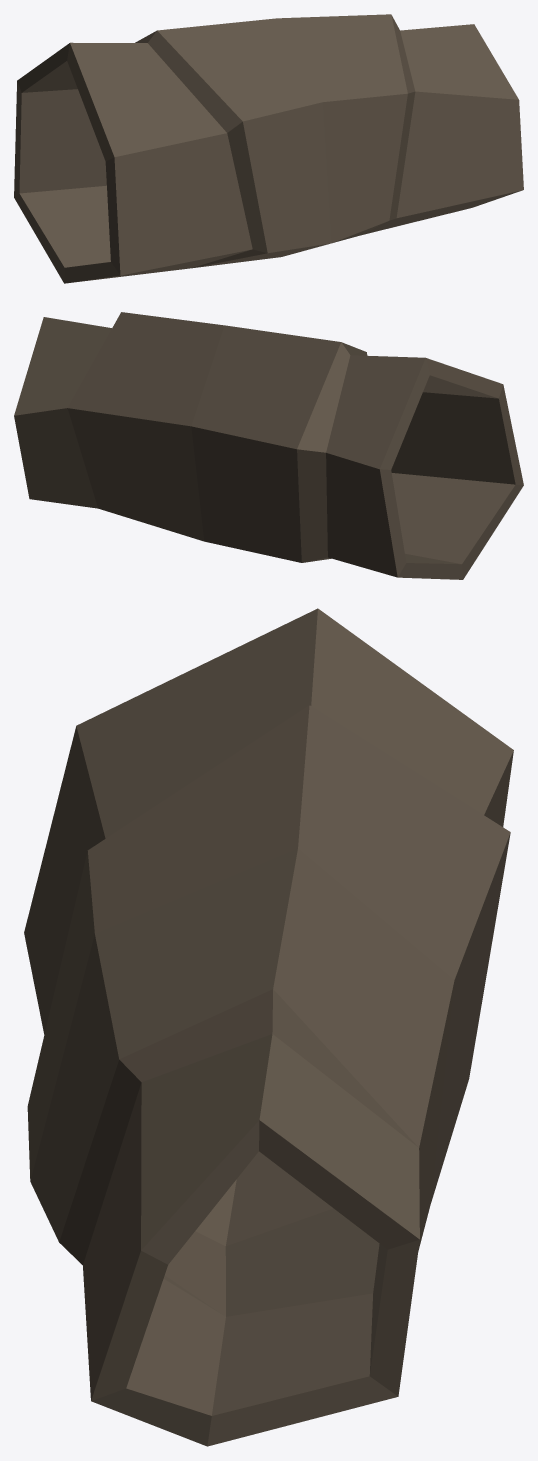
The model's file is Chr_ArmUpperLeft_Female_11_Drop.fbx.
The picture shows the model from 3 angles, top to bottom: view 1: azimuth 30°, elevation 25°; view 2: azimuth 150°, elevation 25°; view 3: azimuth 270°, elevation 25°; orthographic projection. The views are drawn at different scales.
Visible parts, largest first — view 1: Chr_ArmUpperLeft_Female_11_Static; view 2: Chr_ArmUpperLeft_Female_11_Static; view 3: Chr_ArmUpperLeft_Female_11_Static.
Boxes of the visible parts, left/top/right/bottom form: Chr_ArmUpperLeft_Female_11_Static: left=14, top=14, right=523, bottom=283; Chr_ArmUpperLeft_Female_11_Static: left=14, top=312, right=523, bottom=579; Chr_ArmUpperLeft_Female_11_Static: left=24, top=608, right=513, bottom=1446.
Bounding box in the file's own units: 24.45 × 13.23 × 12.1.
